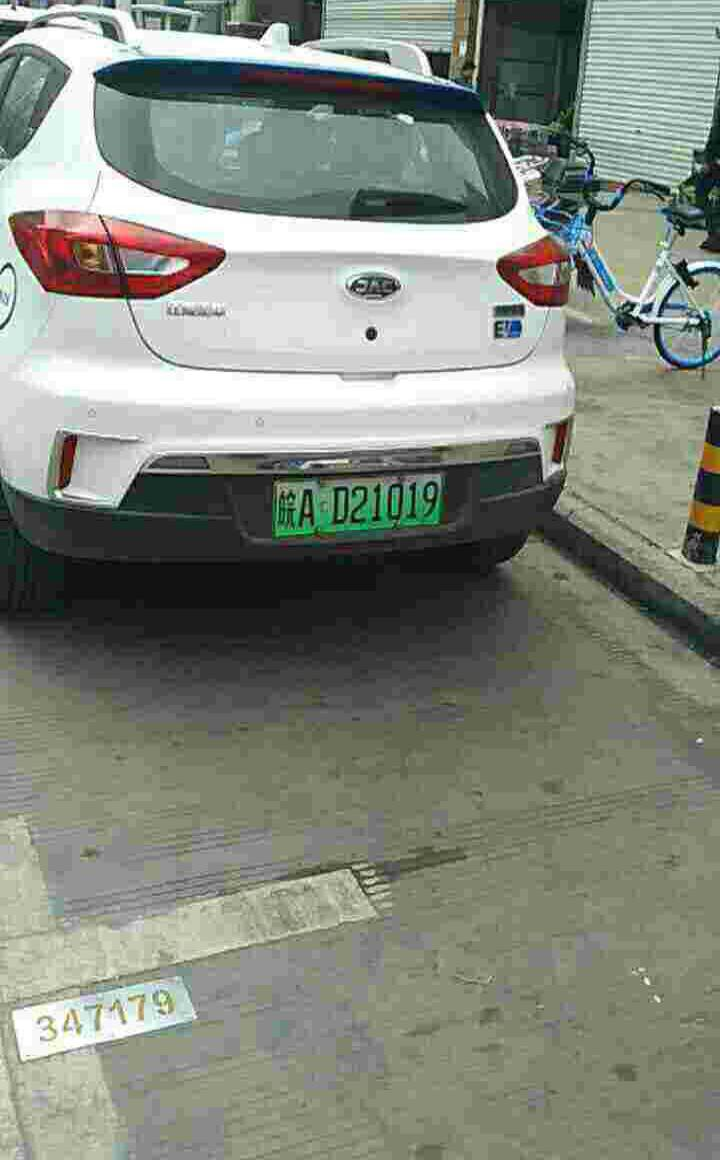car_id: (270, 470, 441, 538)
